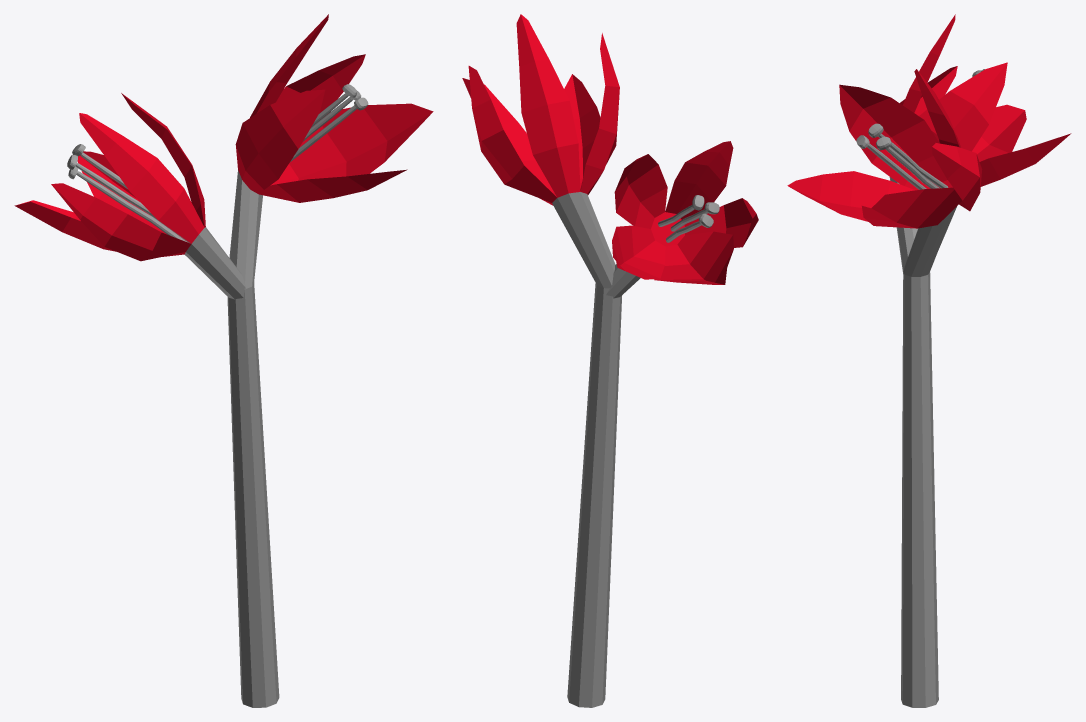
The model's file is flor.fbx.
3 renders of one model, left to right at view 1: azimuth 30°, elevation 25°; view 2: azimuth 150°, elevation 25°; view 3: azimuth 270°, elevation 25°, orthographic.
Parts seen in each view (by area): view 1: Tallo y hojas, Cube.005, Cube.003; view 2: Tallo y hojas; view 3: Tallo y hojas, Cube.002, Cube.001, Cube.
Part boxes in pixels (x1,y1,x2,y2): Tallo y hojas: (14,14,433,707); Cube.005: (68,166,187,242); Cube.003: (67,155,190,243); Tallo y hojas: (462,14,758,707); Tallo y hojas: (787,14,1071,707); Cube.002: (868,123,948,188); Cube.001: (856,135,926,189); Cube: (876,136,939,188).
Size of the model in its own units: 407 by 764 by 296.
